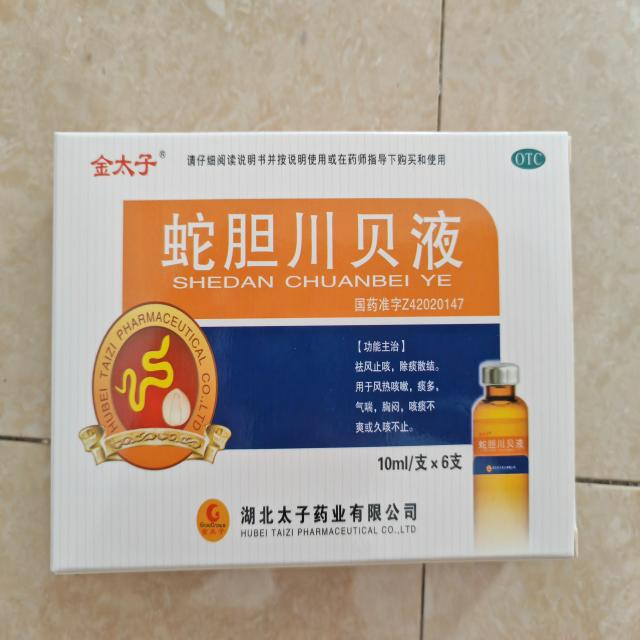box: (40, 110, 587, 590)
